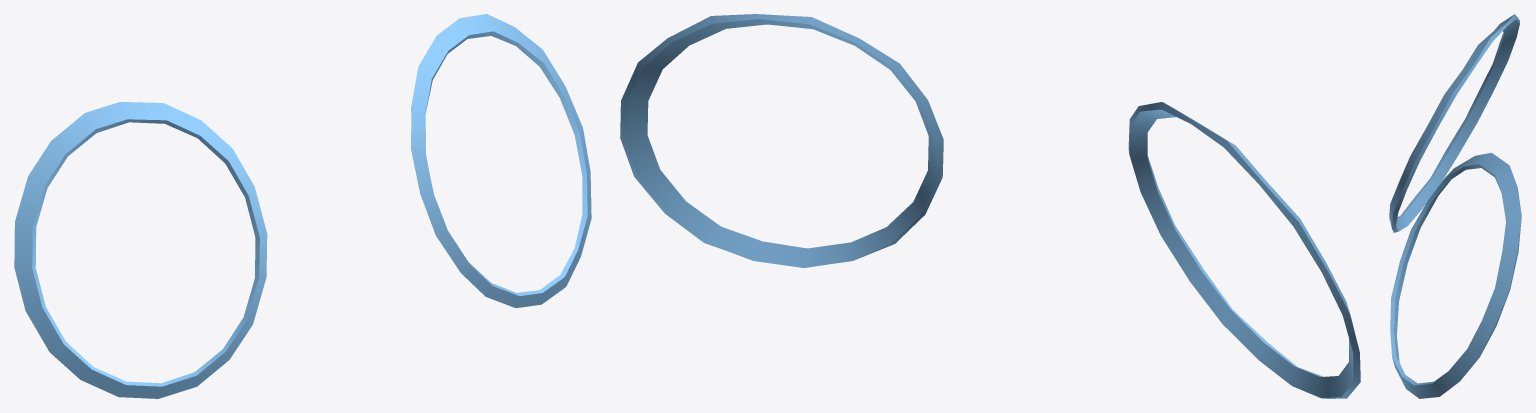
The model's file is Eyelash.fbx.
3 views of the same model, side by side, from view 1: azimuth 30°, elevation 25°; view 2: azimuth 150°, elevation 25°; view 3: azimuth 270°, elevation 25° (orthographic). The views are drawn at different scales.
Parts seen in each view (by area): view 1: Eyelash; view 2: Eyelash; view 3: Eyelash.
Part boxes in pixels (x1,y1,x2,y2): Eyelash: (14, 14, 591, 398); Eyelash: (620, 14, 1360, 398); Eyelash: (1389, 14, 1521, 398).
Size of the model in its own units: 95.23 by 39.6 by 22.22.
